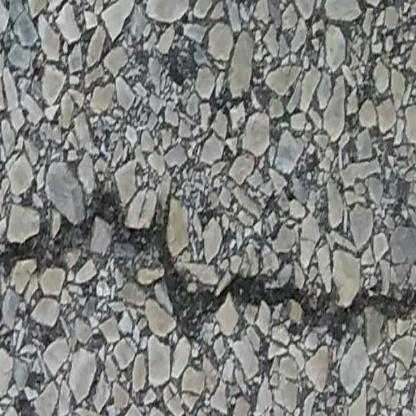Cracks: (0, 187, 416, 349)
